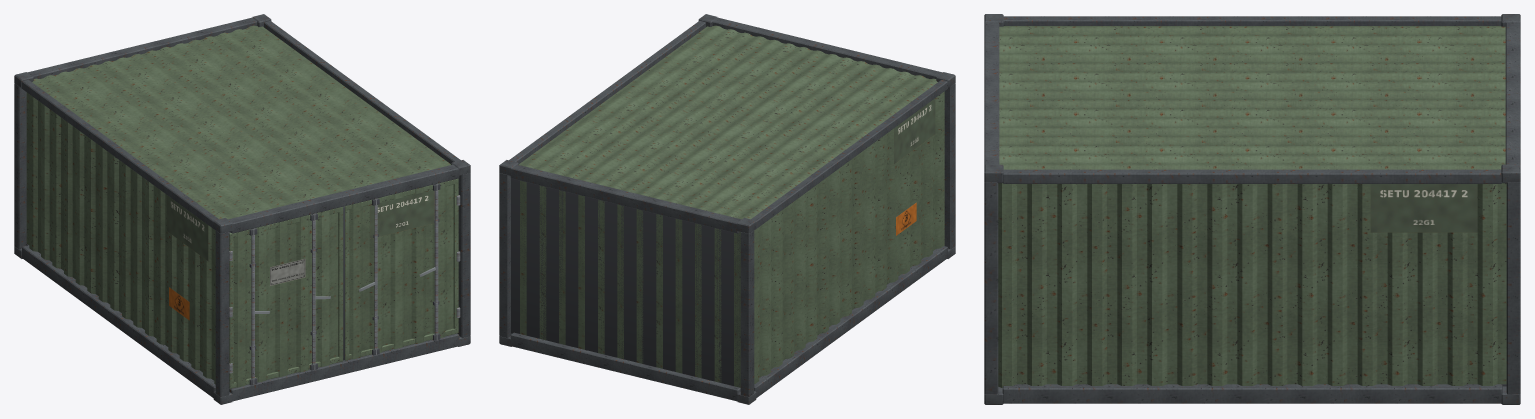
File: cargo_container_intact_olive.gltf
3 renders of one model, left to right at view 1: azimuth 30°, elevation 25°; view 2: azimuth 150°, elevation 25°; view 3: azimuth 270°, elevation 25°, orthographic. The views are drawn at different scales.
Parts seen in each view (by area): view 1: Container_Intact_Body; view 2: Container_Intact_Body; view 3: Container_Intact_Body.
Boxes of the visible parts, x1=… form: Container_Intact_Body: x1=14, y1=14, x2=470, y2=404; Container_Intact_Body: x1=499, y1=14, x2=955, y2=404; Container_Intact_Body: x1=984, y1=14, x2=1520, y2=404.
Bounding box in the file's own units: 3.5 × 2.4 × 5.
4 materials, 4 textured.
